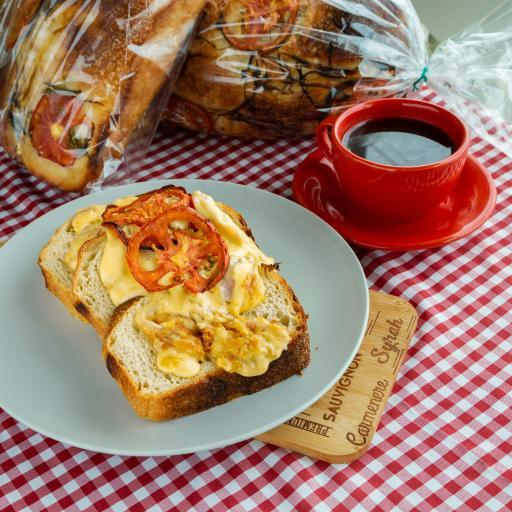cup: (316, 98, 470, 224)
